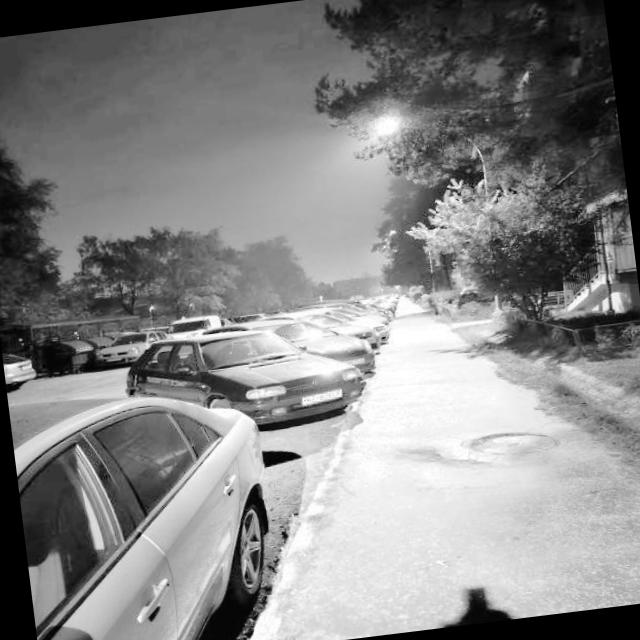Light: (368, 103, 517, 330)
